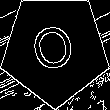O_S: (28, 19, 82, 80)
